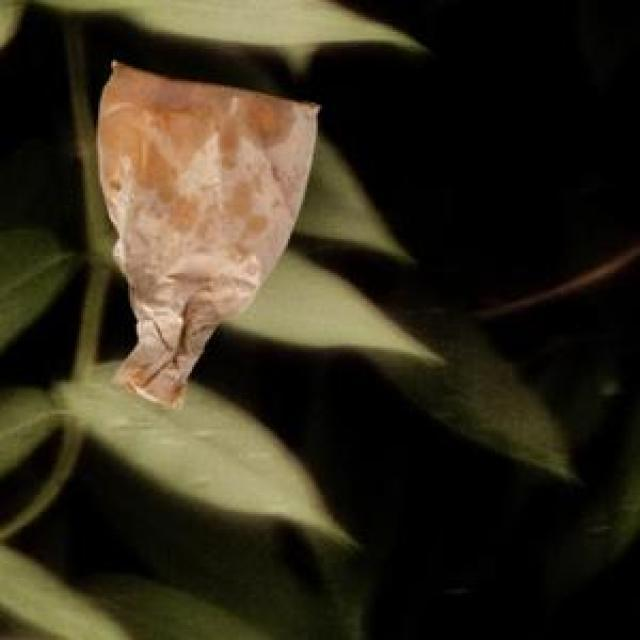paper: (94, 58, 316, 403)
